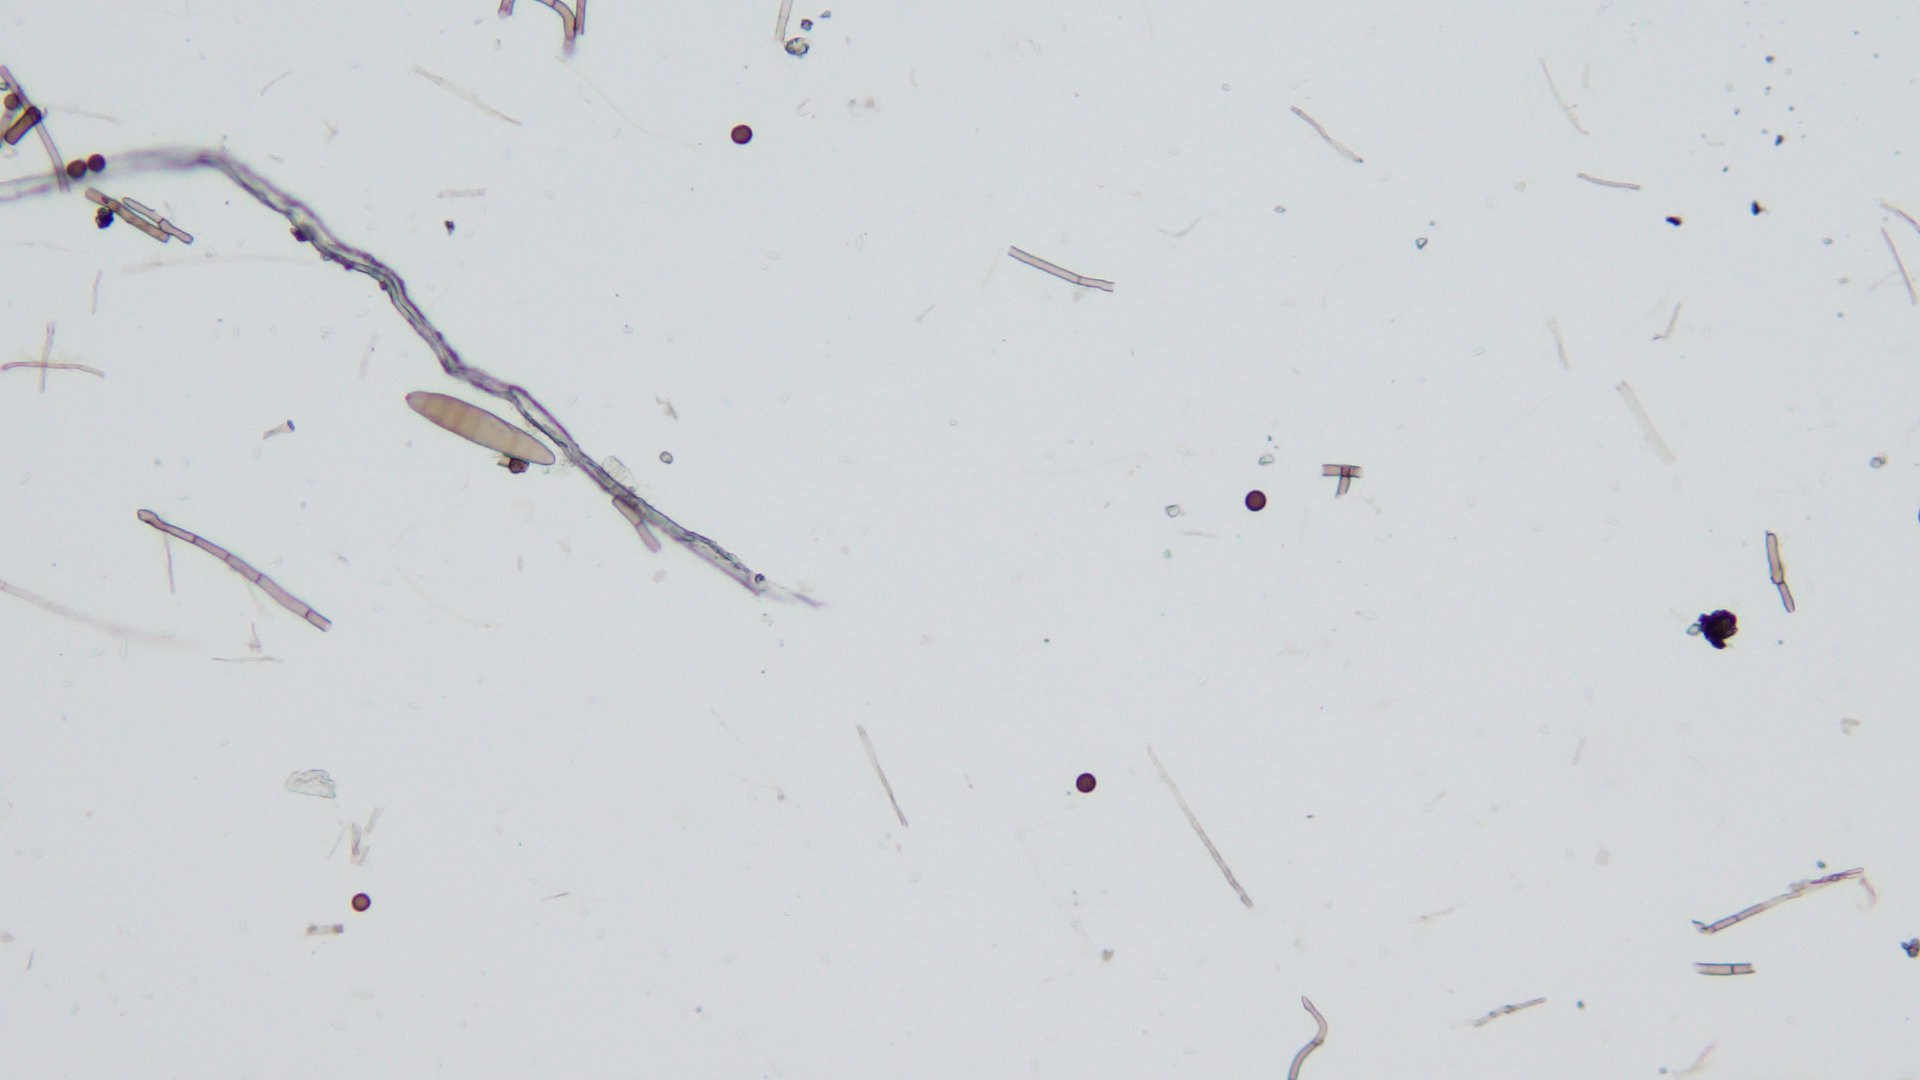dbb_spore: (402, 389, 555, 471)
shs_spore: (727, 123, 754, 145), (1073, 773, 1098, 793), (1244, 492, 1267, 512), (67, 160, 87, 179), (86, 153, 105, 173), (349, 893, 371, 911), (3, 94, 20, 109)
